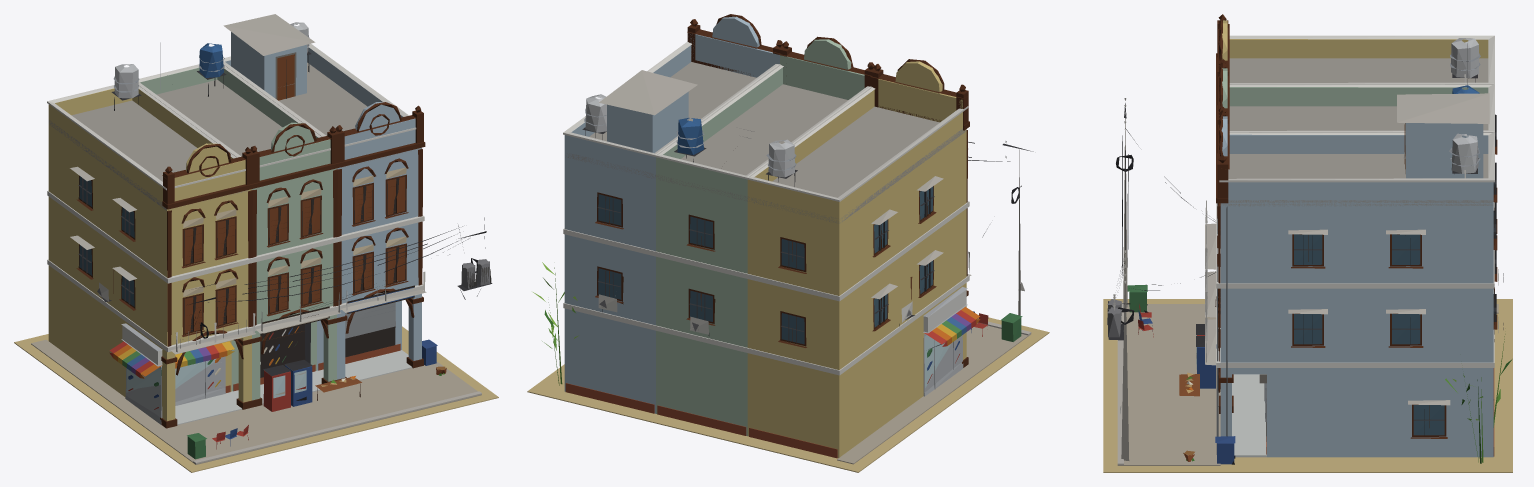
File: shop_3.glb
3 views of the same model, side by side, from view 1: azimuth 30°, elevation 25°; view 2: azimuth 150°, elevation 25°; view 3: azimuth 270°, elevation 25° (orthographic). The views are drawn at different scales.
Parts seen in each view (by area): view 1: body, windows; view 2: body, windows; view 3: body, windows.
Boxes of the visible parts, x1,y1,x2,y2 form: body: (14, 14, 498, 472); windows: (79, 176, 405, 377); body: (527, 14, 1049, 472); windows: (598, 186, 933, 344); body: (1103, 14, 1512, 472); windows: (1266, 182, 1494, 441).
Size of the model in its own units: 16.46 by 14.28 by 17.14.
